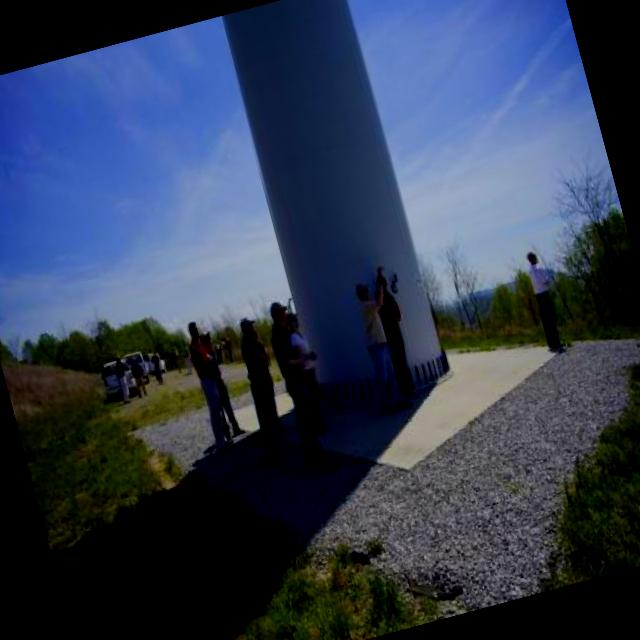Person: (264, 298, 344, 478), (230, 314, 296, 465), (173, 314, 241, 458), (348, 278, 417, 418), (364, 262, 422, 399), (282, 308, 334, 434), (200, 329, 244, 440), (522, 246, 568, 352), (248, 328, 288, 437), (128, 356, 148, 400), (114, 356, 132, 404), (147, 349, 164, 384), (180, 342, 194, 374), (222, 332, 236, 362), (170, 346, 183, 376), (212, 340, 224, 366), (222, 340, 230, 360)
